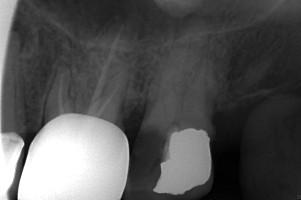Furcation Involvement: (12, 20, 31, 52)
